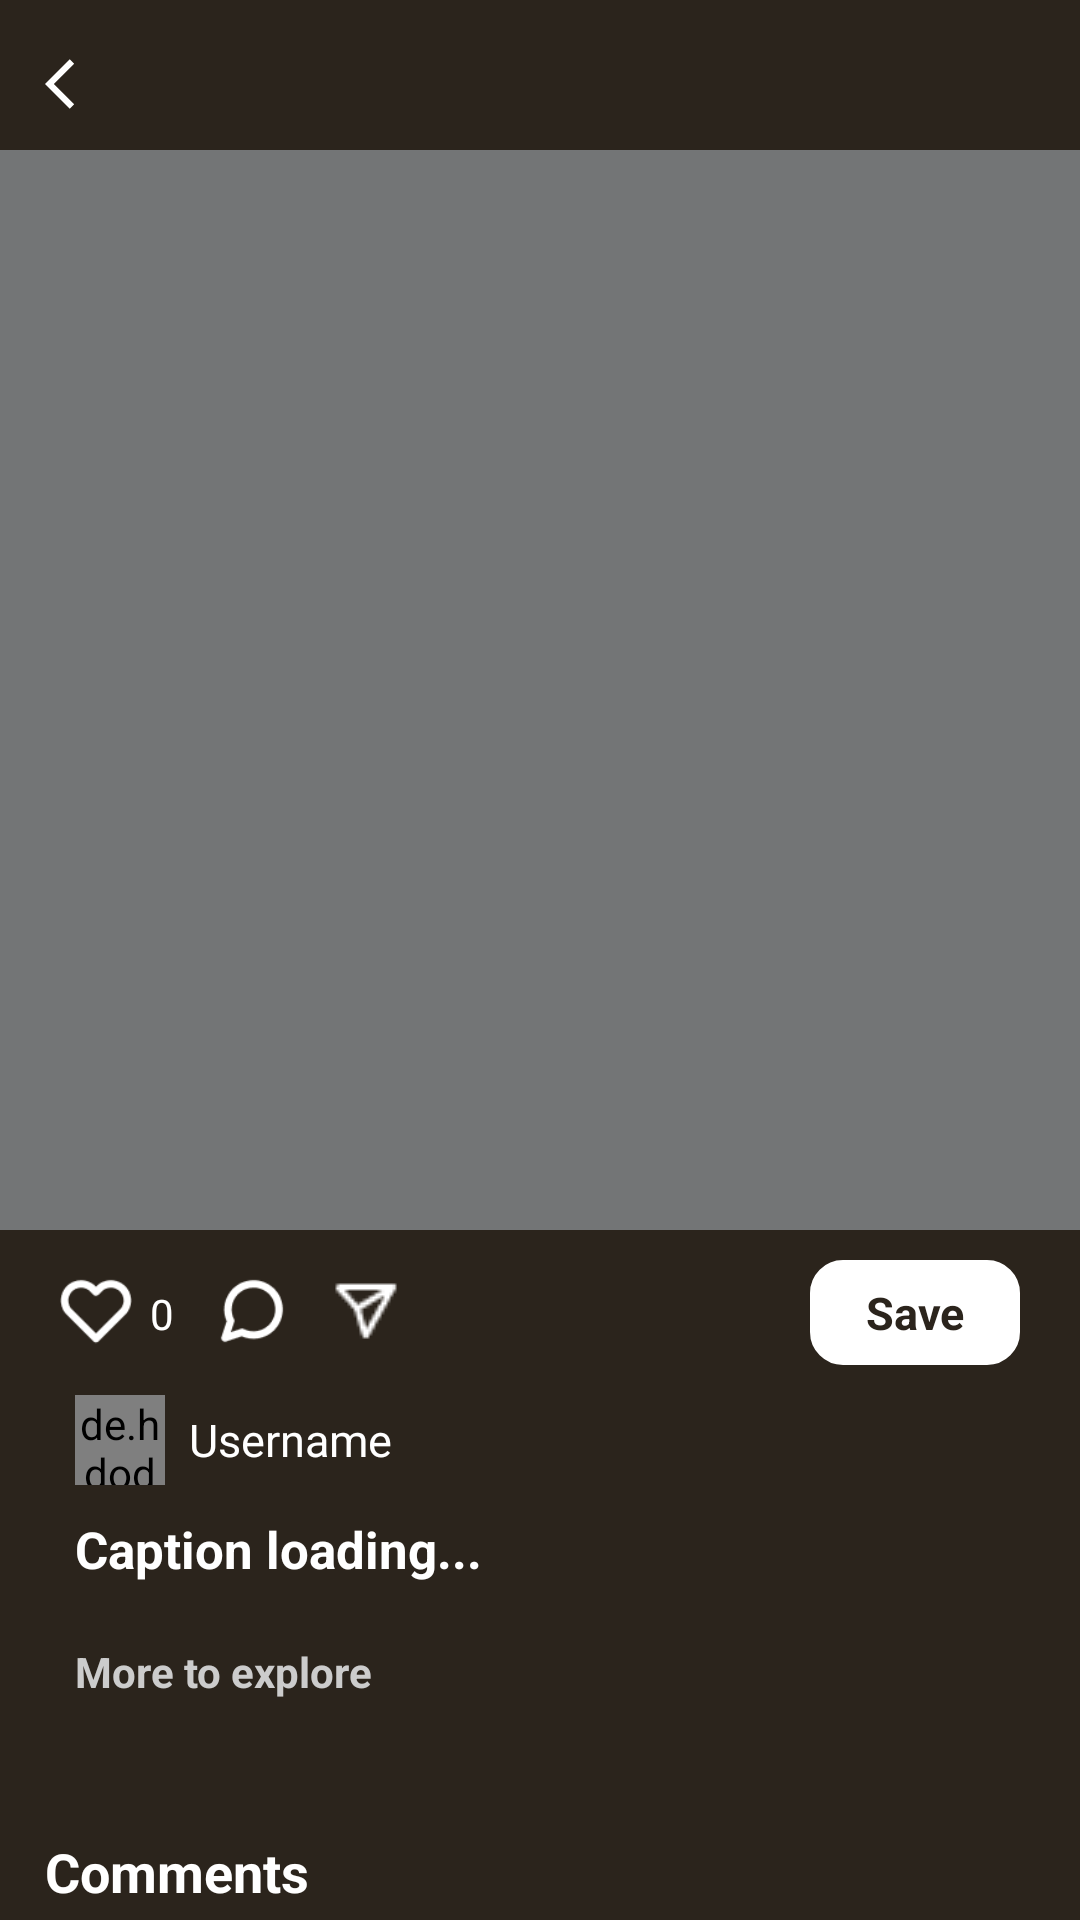

Locate icon controls on the screen. Image size 1080x1920, boxes as Rect(x1, y1, x2, y2).
back arrow: Rect(45, 59, 74, 109)
share: Rect(335, 1283, 397, 1339)
